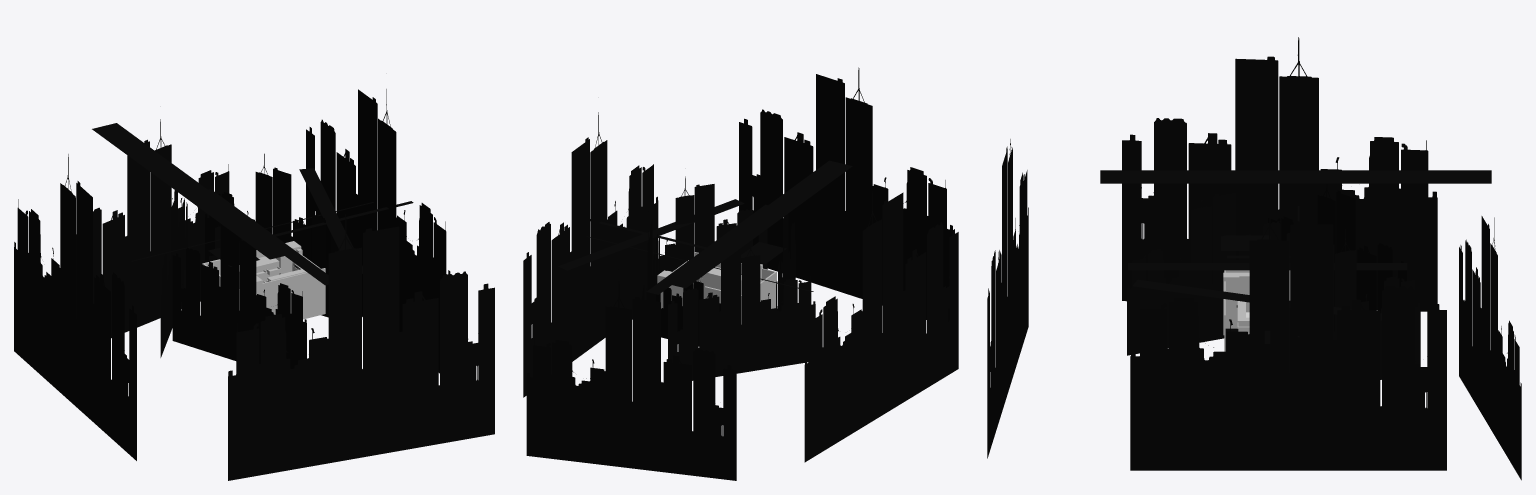
Rendered from Demo_scenario_modificacion_blocking.fbx.
The picture shows the model from 3 angles, left to right: view 1: azimuth 30°, elevation 25°; view 2: azimuth 150°, elevation 25°; view 3: azimuth 270°, elevation 25°; orthographic projection. The views are drawn at different scales.
Parts seen in each view (by area): view 1: landscape, Cube, estructura_base, blocking; view 2: landscape, Cube, estructura_base; view 3: landscape, Cube, blocking, estructura_base.
Part boxes in pixels (left/top/right/bottom): landscape: left=14, top=89, right=494, bottom=480; Cube: left=92, top=123, right=413, bottom=285; estructura_base: left=202, top=241, right=325, bottom=319; blocking: left=239, top=256, right=280, bottom=295; landscape: left=523, top=67, right=958, bottom=480; Cube: left=558, top=160, right=852, bottom=294; estructura_base: left=657, top=252, right=776, bottom=324; landscape: left=987, top=37, right=1521, bottom=480; Cube: left=1100, top=170, right=1491, bottom=343; blocking: left=1223, top=272, right=1249, bottom=335; estructura_base: left=1224, top=270, right=1290, bottom=351.
Bounding box in the file's own units: 110083 × 89076 × 135903.
